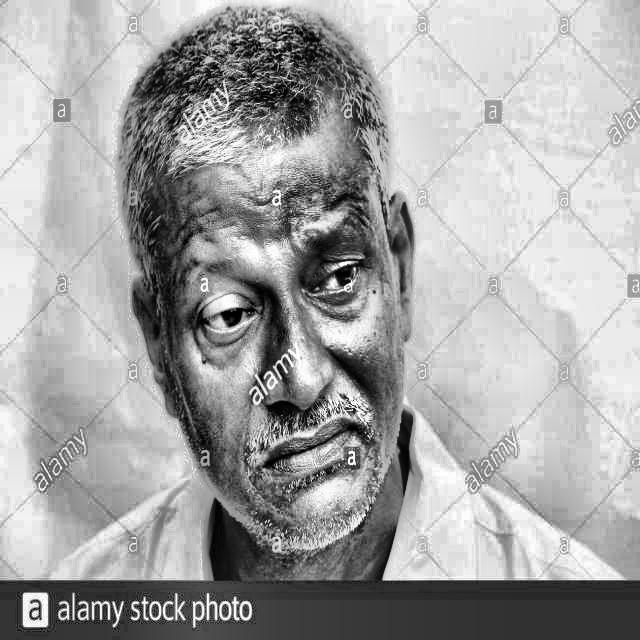sad: (95, 84, 431, 560)
